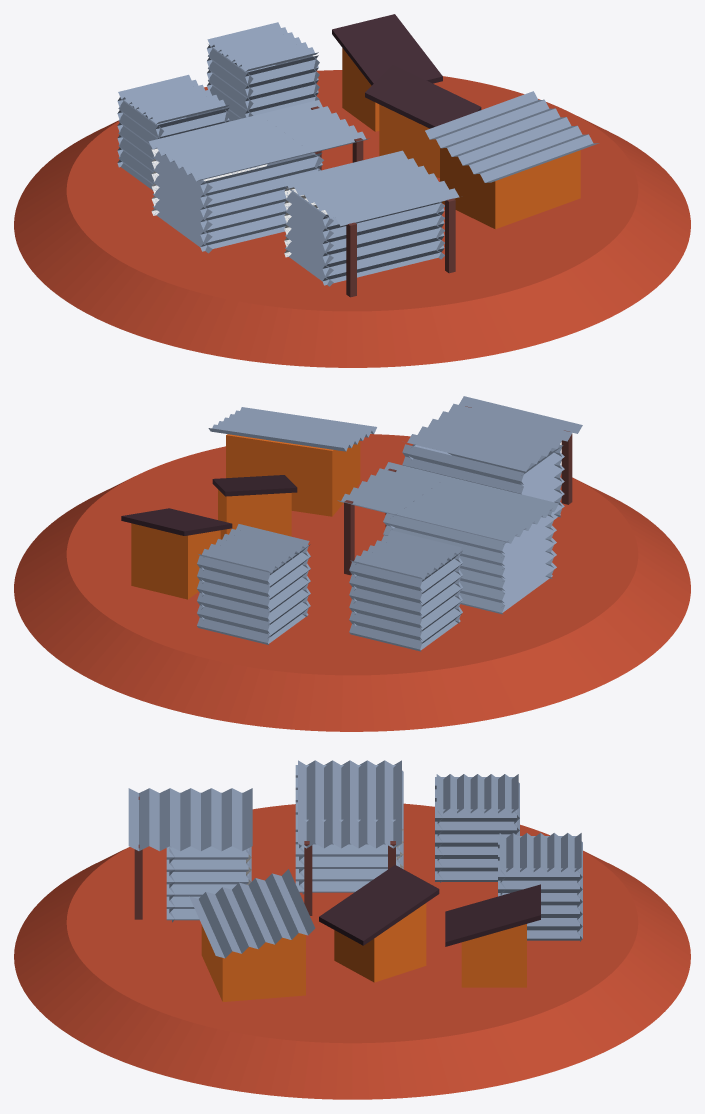
File: Township.glb
The picture shows the model from 3 angles, top to bottom: view 1: azimuth 30°, elevation 25°; view 2: azimuth 150°, elevation 25°; view 3: azimuth 270°, elevation 25°; orthographic projection.
Parts seen in each view (by area): view 1: Platform, Plane.016, Plane.017, Plane.024, Cube.004, Plane.005, Plane.018, Cube.003, Cube.012, Plane.007, Plane, Plane.015 (+9 smaller); view 2: Platform, Plane.016, Plane.024, Cube.004, Plane.012, Plane.002, Cube, Plane.010, Plane.017, Plane.007, Plane.015, Plane (+10 smaller); view 3: Platform, Plane.016, Plane.024, Plane.017, Cube.004, Plane.014, Cube.012, Plane.021, Cube.009, Plane.004, Plane.008, Cube (+5 smaller).
Part boxes in pixels (bbox=[...]): Platform: bbox=[14, 70, 690, 367]; Plane.016: bbox=[148, 100, 369, 181]; Plane.017: bbox=[425, 91, 599, 182]; Plane.024: bbox=[284, 150, 459, 226]; Cube.004: bbox=[440, 147, 580, 229]; Plane.005: bbox=[200, 152, 322, 251]; Plane.018: bbox=[322, 201, 444, 285]; Cube.003: bbox=[332, 14, 442, 85]; Cube.012: bbox=[365, 64, 481, 128]; Plane.007: bbox=[152, 147, 212, 253]; Plane: bbox=[207, 22, 318, 71]; Plane.015: bbox=[118, 74, 228, 124]; Platform: bbox=[14, 434, 690, 731]; Plane.016: bbox=[337, 462, 558, 543]; Plane.024: bbox=[407, 396, 582, 471]; Cube.004: bbox=[226, 434, 360, 516]; Plane.012: bbox=[349, 562, 422, 651]; Plane.002: bbox=[197, 556, 270, 644]; Cube: bbox=[131, 523, 220, 599]; Plane.010: bbox=[383, 513, 505, 614]; Plane.017: bbox=[208, 407, 376, 451]; Plane.007: bbox=[501, 509, 556, 612]; Plane.015: bbox=[350, 530, 461, 579]; Plane: bbox=[198, 524, 309, 573]; Platform: bbox=[14, 803, 690, 1099]; Plane.016: bbox=[298, 760, 401, 848]; Plane.024: bbox=[128, 788, 252, 851]; Plane.017: bbox=[189, 869, 315, 958]; Cube.004: bbox=[201, 925, 305, 1001]; Plane.014: bbox=[435, 809, 516, 881]; Cube.012: bbox=[319, 865, 439, 945]; Plane.021: bbox=[166, 847, 248, 920]; Cube.009: bbox=[334, 903, 426, 982]; Plane.004: bbox=[498, 868, 579, 940]; Plane.008: bbox=[295, 819, 399, 892]; Cube: bbox=[461, 924, 526, 987].
Size of the model in its own units: 16.09 by 2.9 by 16.09.
